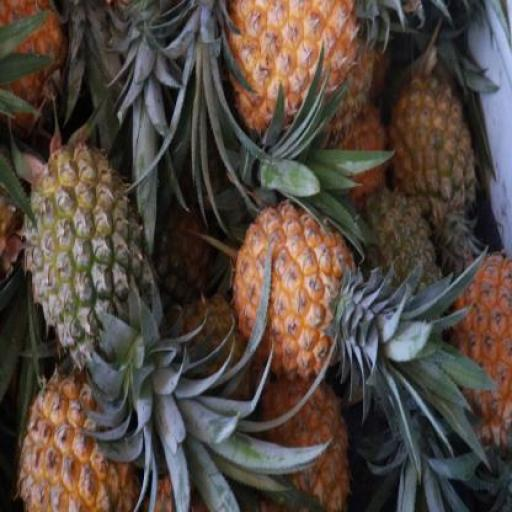------------------------------: (21, 140, 153, 362), (394, 69, 480, 241)
Pineapple - v8 v1: (234, 196, 356, 380), (232, 2, 380, 152), (26, 372, 134, 512)
